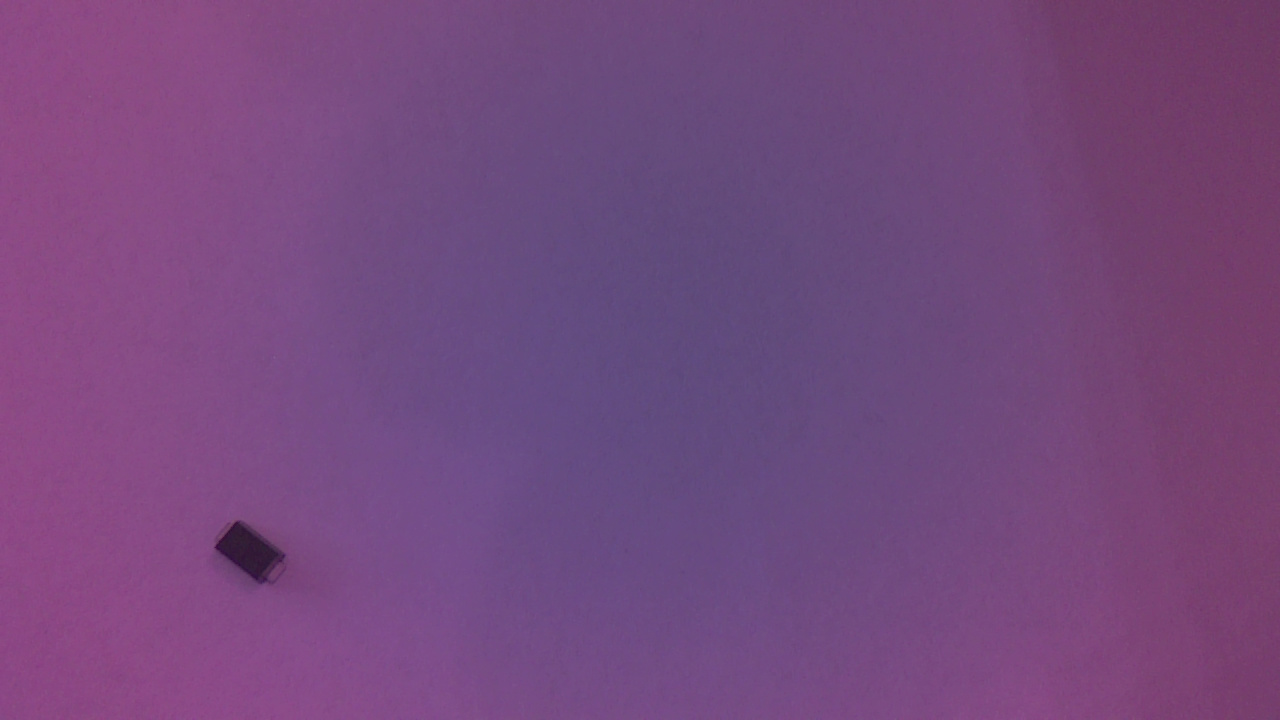Diode: (219, 518, 298, 593)
